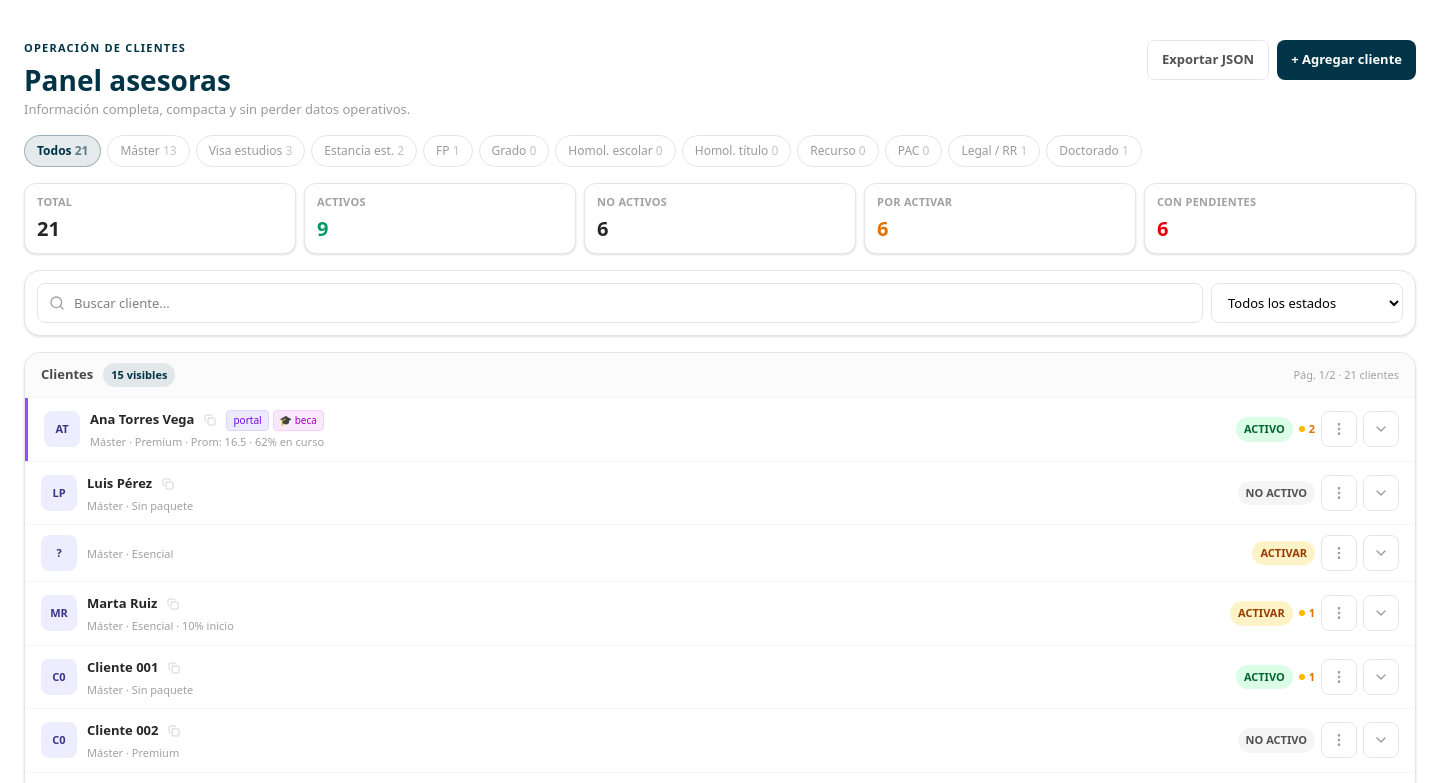
Test case: Panel asesoras — menú, modales y acciones › quitar del panel: confirmación, cancelar y confirmar
The width and height of the screenshot is (1440, 783).
Step 1. Click the button named "Acciones de Luis Pérez" → (1339, 493), box [1321,475,1357,511]
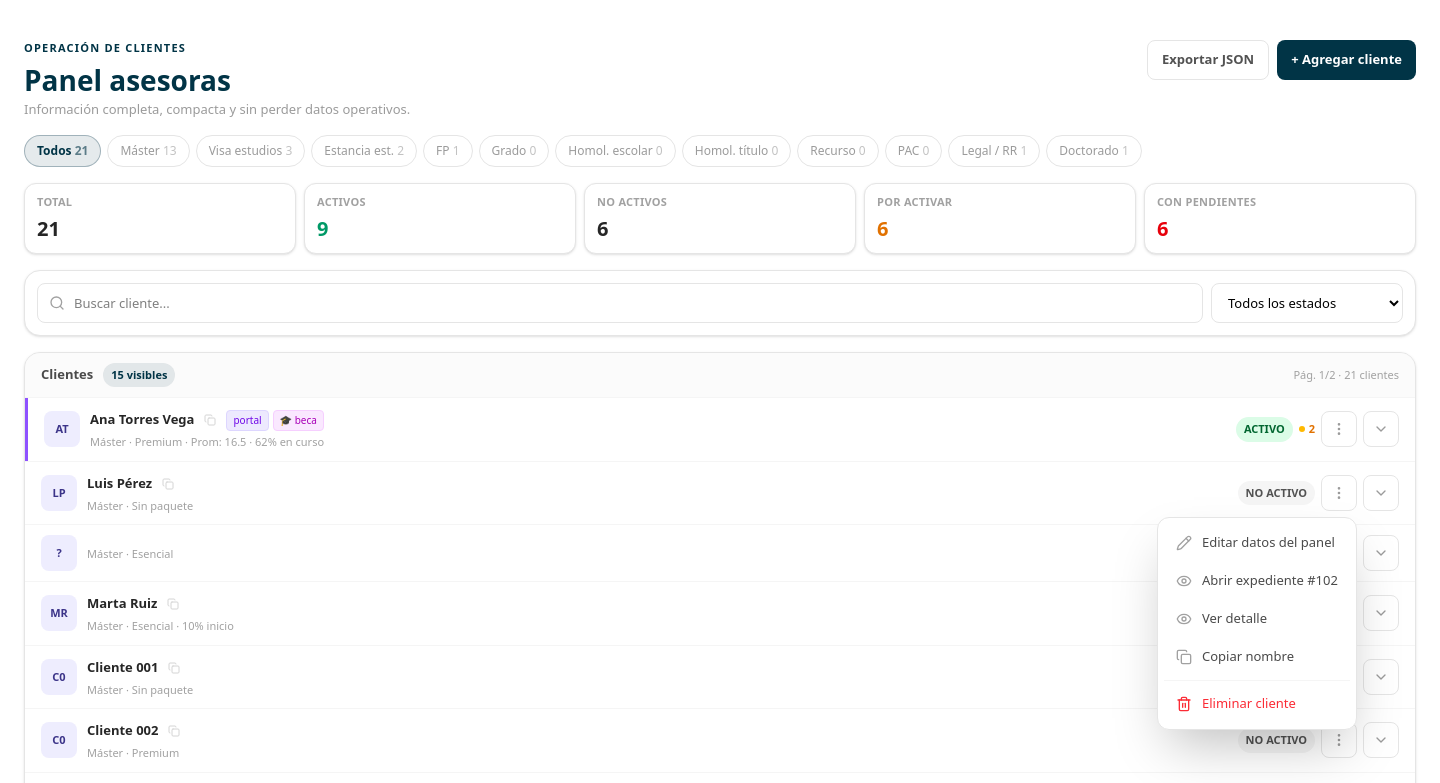
Step 2. Click the button "Eliminar cliente" → (1257, 704), box [1164,685,1350,723]
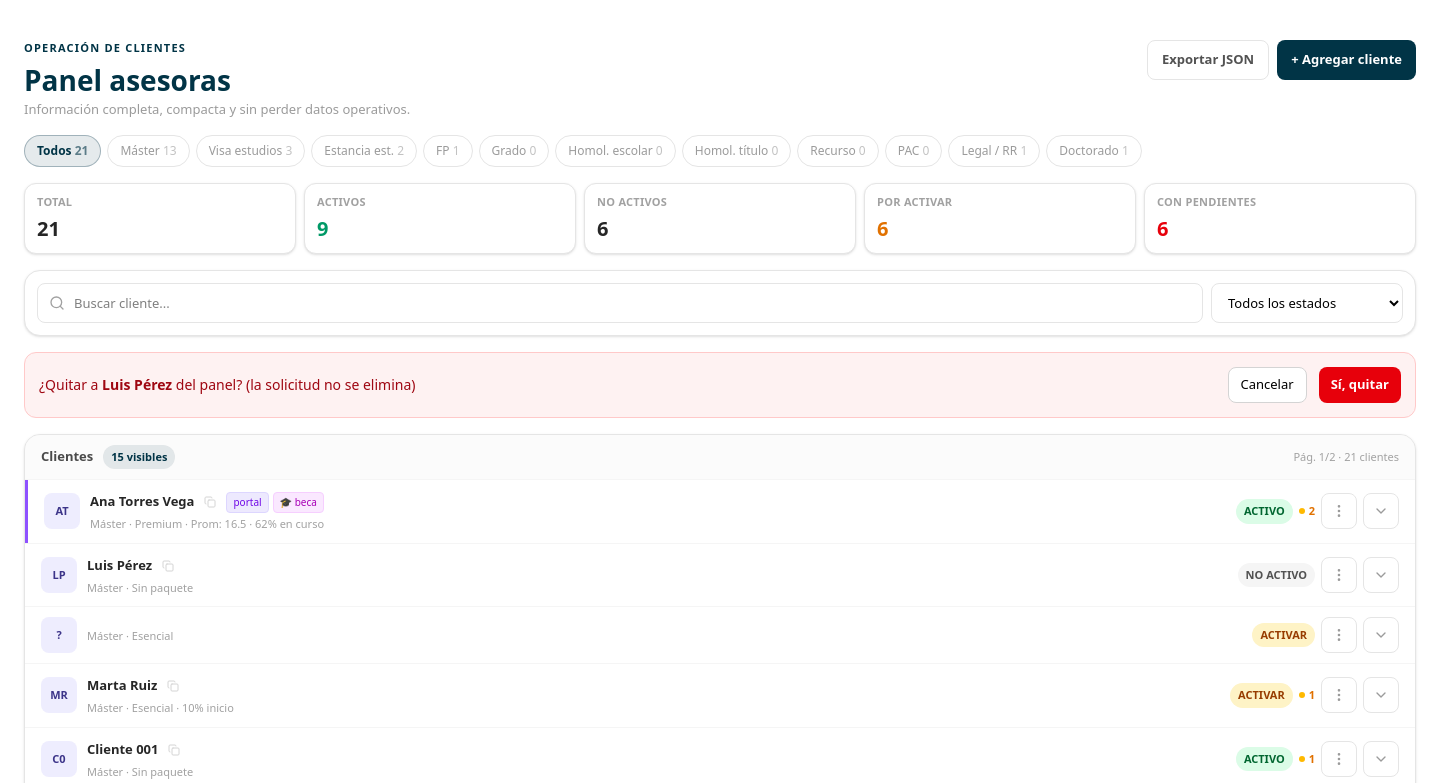
Step 3. Click the button "Cancelar" → (1267, 384), box [1228,366,1307,402]
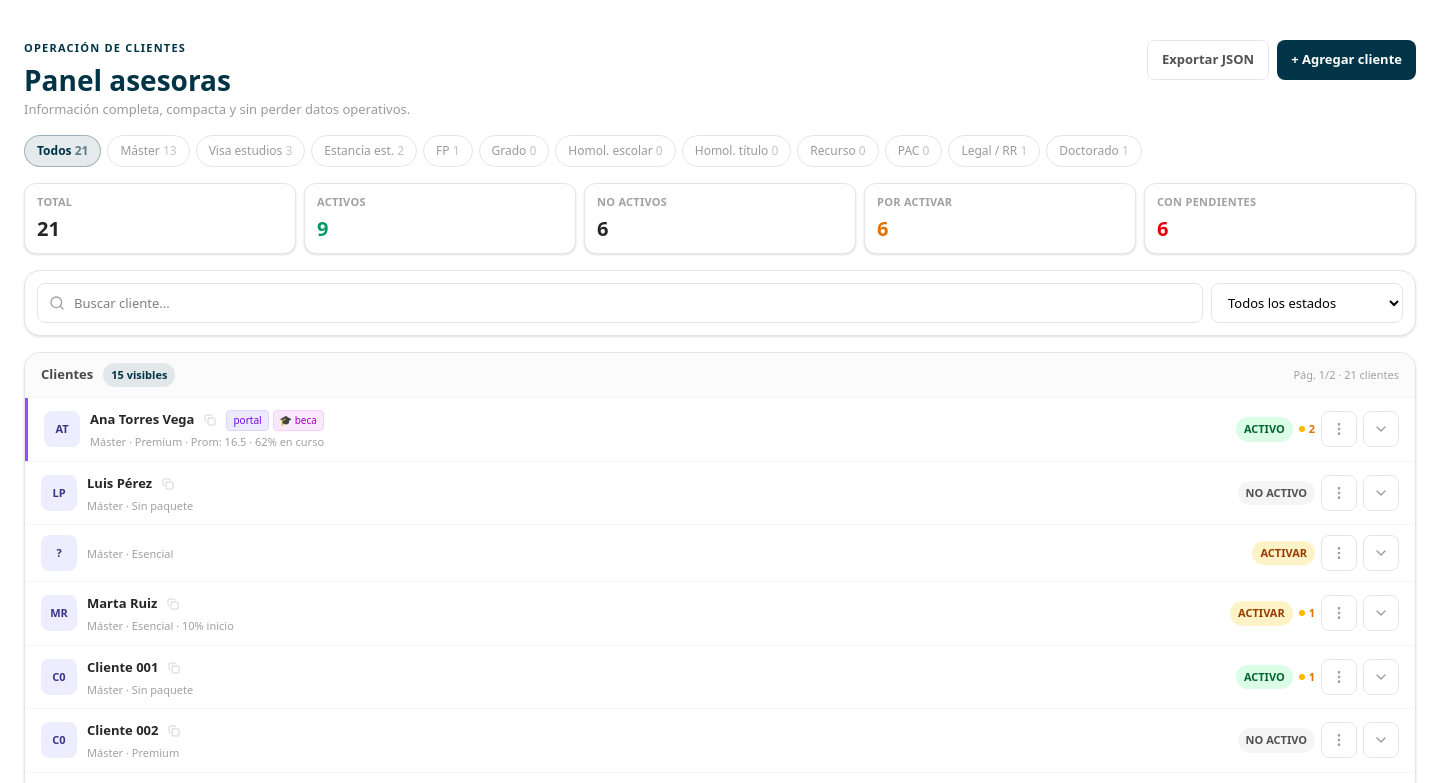
Check: the button "Sí, quitar" is gone
Step 4. Click the button named "Acciones de Luis Pérez" → (1339, 493), box [1321,475,1357,511]
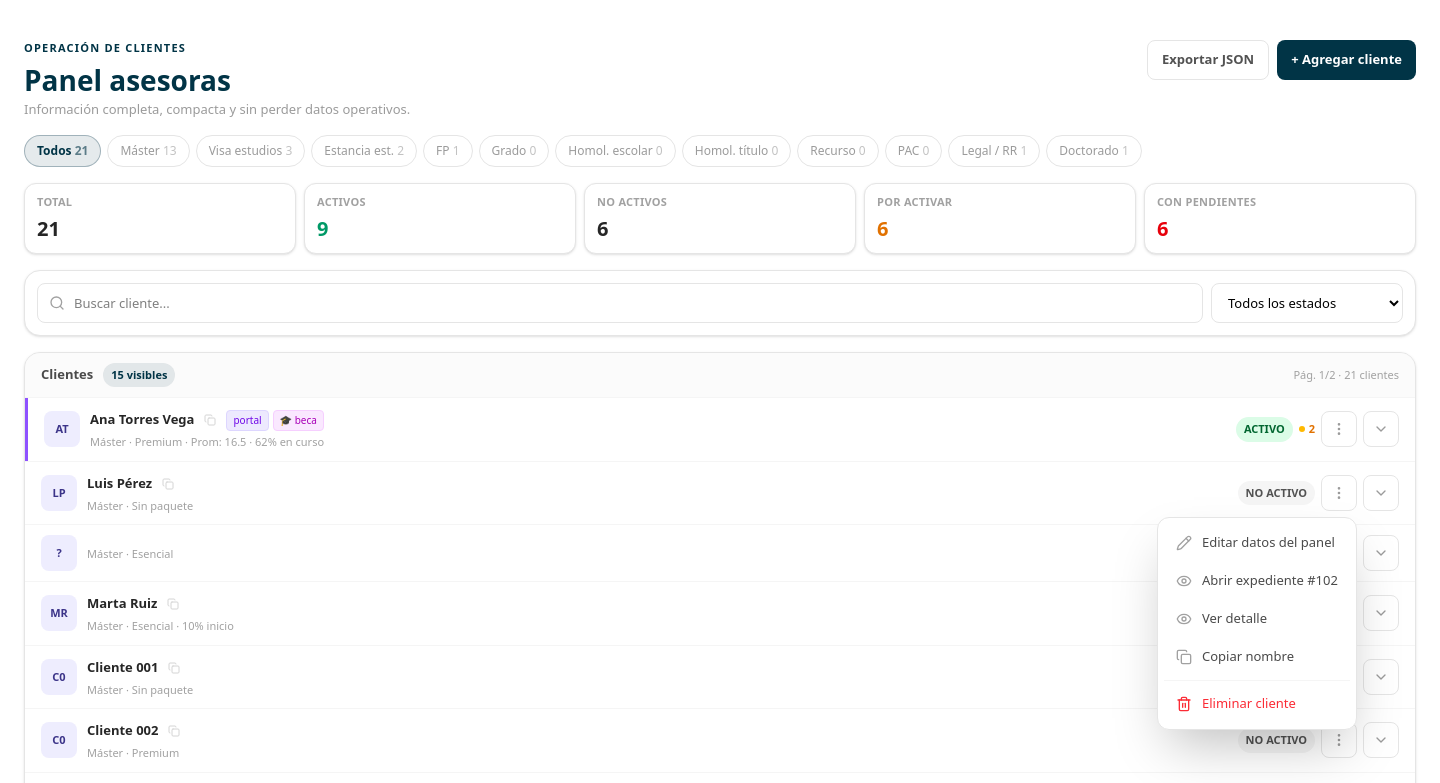
Step 5. Click the button "Eliminar cliente" → (1257, 704), box [1164,685,1350,723]
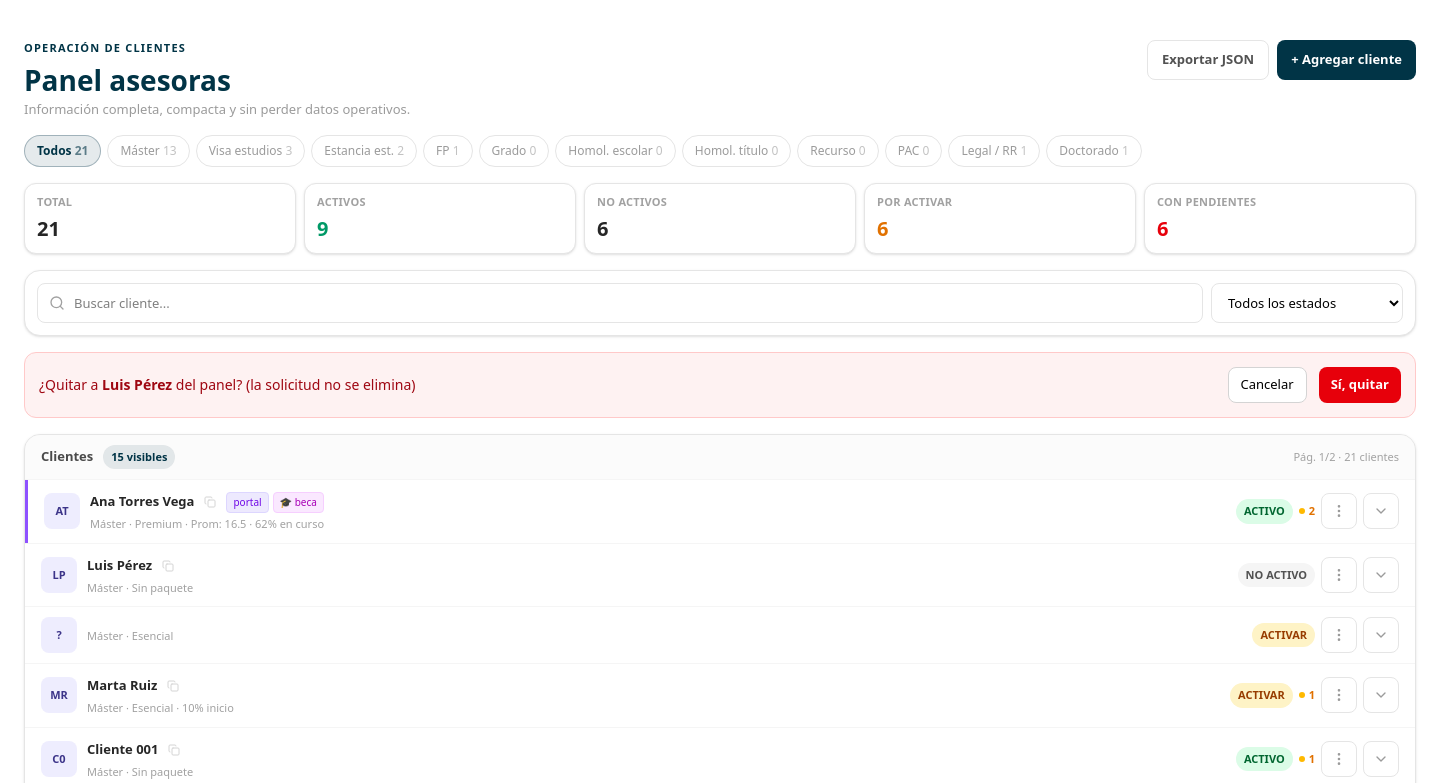
Step 6. Click the button "Sí, quitar" → (1360, 384), box [1319,366,1401,402]
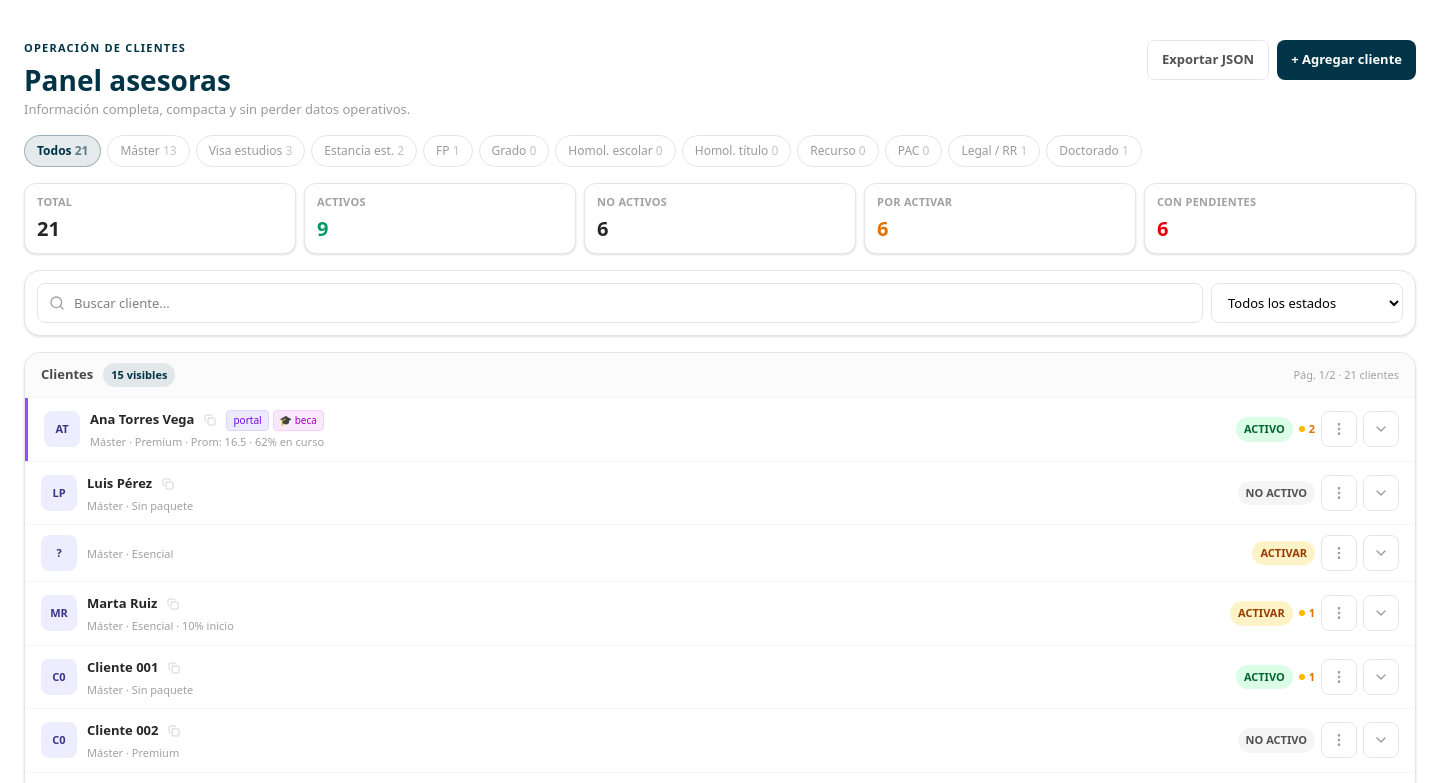
Check: the button "Sí, quitar" is gone
